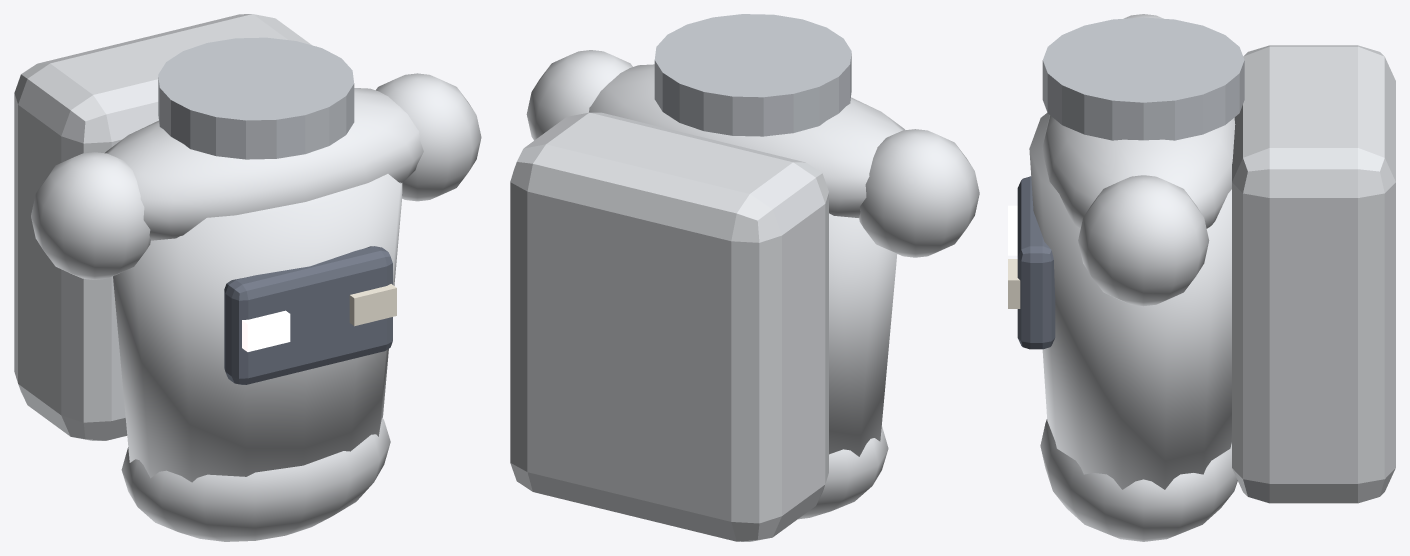
The model's file is astronaut__torso.fbx.
3 renders of one model, left to right at view 1: azimuth 30°, elevation 25°; view 2: azimuth 150°, elevation 25°; view 3: azimuth 270°, elevation 25°, orthographic. The views are drawn at different scales.
Parts seen in each view (by area): view 1: astronaut__torso; view 2: astronaut__torso; view 3: astronaut__torso.
Part boxes in pixels (<box>): astronaut__torso: <box>14,14,481,541</box>; astronaut__torso: <box>510,14,979,541</box>; astronaut__torso: <box>1008,14,1395,541</box>.
Size of the model in its own units: 0.8128 by 0.8037 by 0.615.
